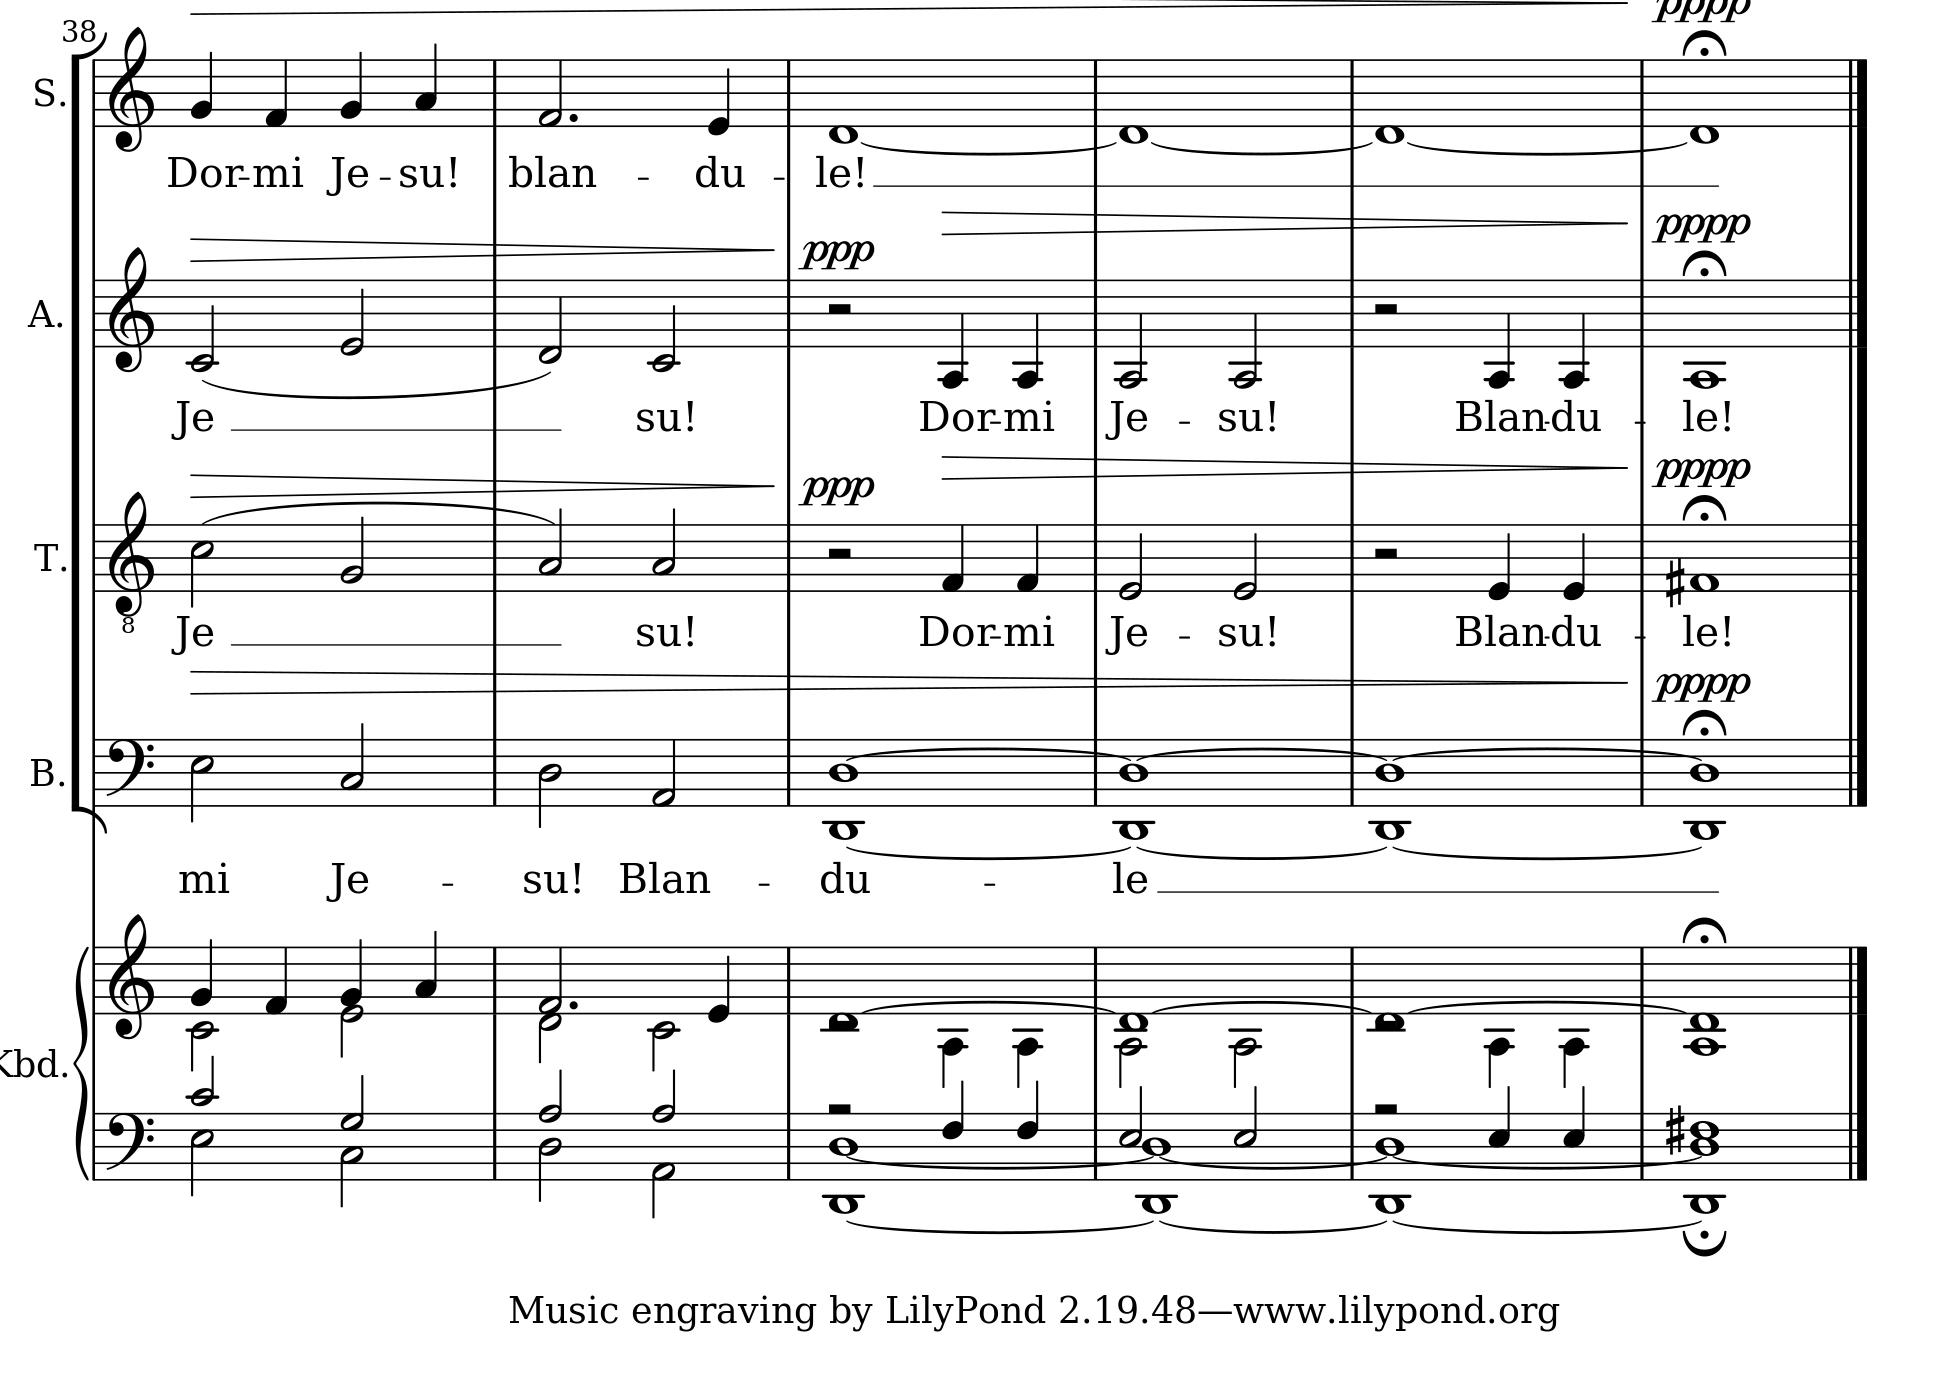1_-1: (825, 55, 859, 145), (1116, 55, 1150, 145), (1372, 55, 1407, 145), (1689, 57, 1722, 145)
1_-3_4: (1369, 733, 1407, 844), (1687, 735, 1725, 846), (823, 1111, 862, 1216), (826, 736, 862, 847), (1116, 733, 1152, 844), (1371, 1113, 1410, 1215), (1143, 1111, 1176, 1213)
1_-4: (1683, 277, 1725, 388)
1_-4_-1: (1683, 943, 1728, 1057)
1_1: (1689, 520, 1722, 594)
2_-1: (535, 277, 565, 364)
2_-1_1: (537, 946, 564, 1066)
2_-2: (646, 943, 679, 1069), (648, 277, 679, 373), (187, 277, 217, 373)
2_-4: (1228, 946, 1263, 1089), (1114, 277, 1147, 390), (1230, 277, 1261, 390)
2_0: (337, 276, 367, 358), (1116, 520, 1146, 601), (1233, 520, 1260, 601)
2_1: (649, 736, 679, 808), (537, 57, 565, 129)
2_1_8: (649, 1069, 678, 1216)
2_2: (339, 514, 367, 592)
2_3: (649, 505, 679, 594), (537, 505, 565, 592), (339, 721, 367, 808)
2_3_7: (337, 1072, 364, 1207)
2_4: (535, 736, 562, 829)
2_4_8: (537, 1063, 562, 1204)
2_5: (1233, 1084, 1263, 1182), (187, 522, 214, 607), (189, 736, 214, 822)
2_5_10: (189, 1050, 220, 1197)
3: (60, 16, 79, 43)
4_-4: (1011, 276, 1044, 390), (1483, 276, 1516, 390), (937, 276, 969, 390), (1558, 276, 1590, 390)
4_0: (706, 55, 733, 138), (1486, 520, 1513, 603), (1561, 520, 1588, 601), (706, 943, 733, 1024)
4_1: (262, 943, 291, 1015), (1014, 522, 1042, 592), (262, 57, 289, 127), (939, 522, 966, 592)
4_2: (189, 49, 214, 127), (339, 49, 364, 127), (190, 936, 214, 1015)
4_3: (412, 40, 439, 127), (414, 928, 439, 1014)
4_5: (1563, 1083, 1588, 1185), (1488, 1081, 1512, 1183)
4_6: (942, 1078, 966, 1183), (1017, 1078, 1041, 1183)
8: (78, 16, 97, 42)
8_-4: (937, 942, 969, 1087), (1012, 943, 1044, 1086), (1485, 943, 1515, 1087), (1560, 943, 1590, 1087)
Brace: (70, 943, 91, 1180)
Diminuendo_hairpin: (939, 454, 1629, 483), (187, 235, 775, 265), (942, 211, 1629, 235), (187, 472, 781, 499)
Fclef: (103, 1110, 156, 1183), (103, 736, 156, 807)
Fermata_above: (1683, 27, 1728, 57), (1683, 247, 1728, 277), (1683, 492, 1728, 522), (1683, 706, 1728, 736), (1683, 913, 1728, 943), (1683, 1227, 1729, 1255)
Final_barline: (1843, 945, 1870, 1012), (1842, 1111, 1869, 1179), (1843, 277, 1869, 345), (1843, 738, 1869, 805), (1845, 58, 1870, 124), (1843, 523, 1869, 589)
Gclef: (106, 244, 157, 373), (106, 912, 156, 1041), (106, 25, 156, 153)
Lower_Gclef: (106, 490, 156, 633)
Rests1: (1371, 1096, 1404, 1117), (823, 1096, 855, 1117)
Rests2: (1368, 298, 1404, 321), (1368, 543, 1404, 565), (823, 298, 856, 319), (823, 544, 856, 564)
Sharp: (1662, 555, 1686, 607), (1663, 1102, 1686, 1156)
Single_barline: (483, 480, 505, 589), (483, 244, 505, 343), (1086, 58, 1105, 130), (1342, 945, 1362, 1015), (778, 945, 798, 1014), (778, 279, 798, 346), (1633, 58, 1650, 136), (1344, 58, 1362, 129), (1086, 945, 1104, 1015), (1344, 279, 1362, 346), (780, 523, 798, 591), (1344, 523, 1362, 589), (85, 523, 103, 589), (1344, 738, 1362, 804), (486, 946, 504, 1012), (1087, 738, 1104, 805), (487, 58, 504, 124), (780, 58, 796, 124), (87, 280, 103, 346), (781, 736, 796, 805), (1345, 1111, 1360, 1179), (781, 1111, 796, 1179), (1635, 1111, 1650, 1179), (87, 60, 102, 126), (1635, 279, 1650, 345), (1635, 523, 1650, 589), (487, 738, 502, 804), (1635, 738, 1650, 804), (87, 739, 102, 805), (1635, 946, 1650, 1012), (487, 1111, 502, 1177), (1089, 1111, 1104, 1177), (1089, 523, 1102, 592), (88, 945, 102, 1012), (88, 1111, 100, 1177)
Slur: (201, 373, 552, 400), (1392, 843, 1705, 861), (846, 844, 1134, 864), (1398, 745, 1705, 763), (838, 745, 1132, 763), (1128, 843, 1389, 862), (859, 139, 1120, 157), (1392, 1219, 1704, 1234), (844, 1221, 1159, 1234), (1405, 139, 1686, 154), (1137, 747, 1392, 763), (1158, 1221, 1389, 1237), (1149, 139, 1377, 156)
dot: (565, 996, 580, 1011), (565, 109, 579, 123)
ppp: (796, 235, 874, 273), (796, 472, 877, 508)
pppp: (1648, 210, 1752, 244), (1648, 454, 1753, 487), (1650, 670, 1752, 702)
